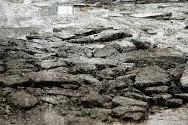alligator-crack: (3, 27, 187, 124)
pothole: (36, 2, 110, 18), (118, 11, 186, 23), (113, 0, 157, 11)
